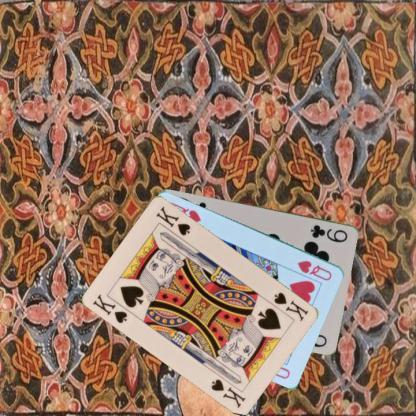9c: (308, 222, 349, 244)
Ks: (90, 291, 130, 325), (272, 290, 310, 323)
Qh: (296, 258, 334, 282)
